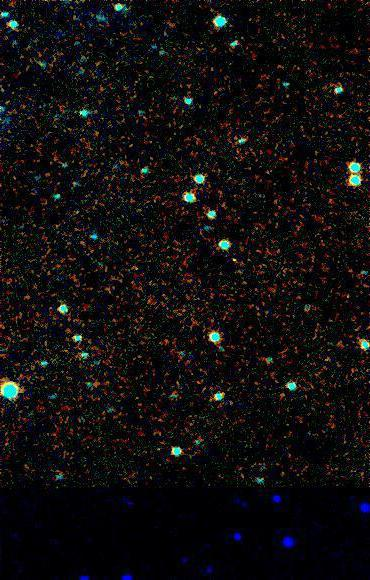star: (221, 244, 251, 274)
